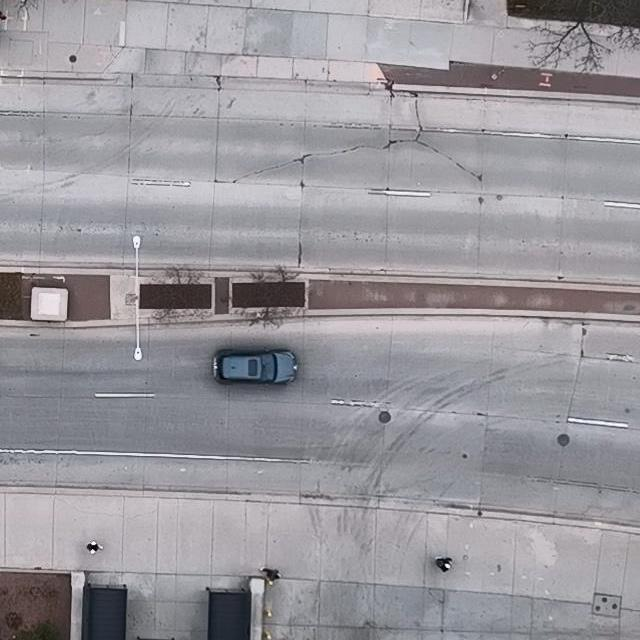car: (213, 347, 297, 385)
